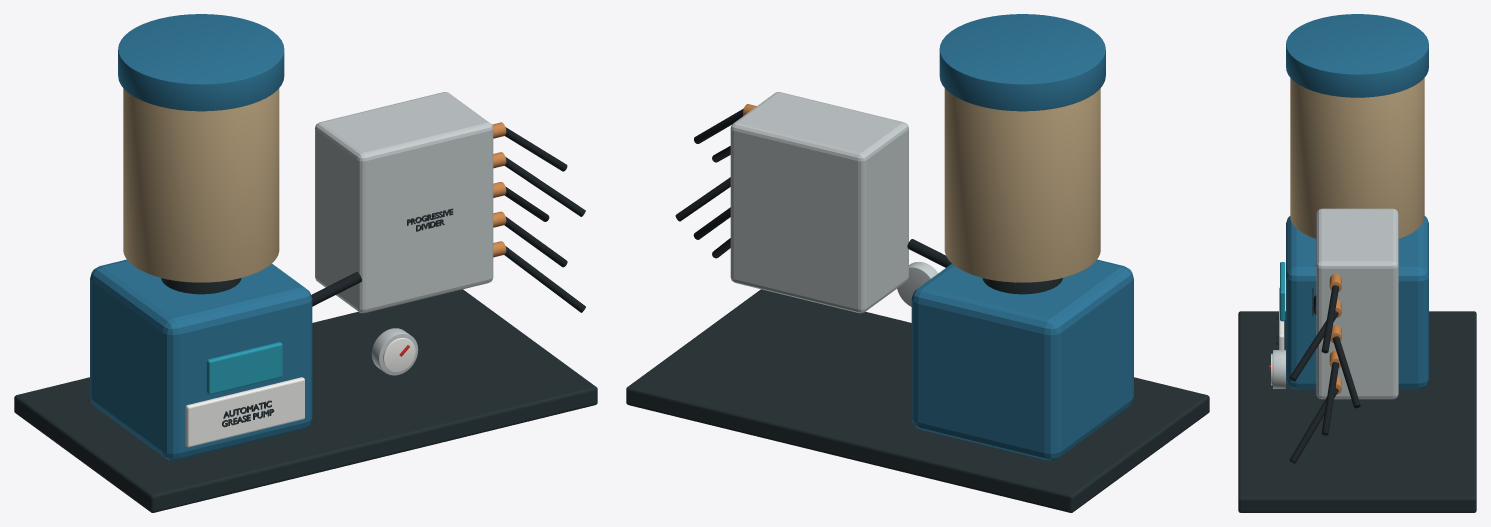
Rendered from central_lubrication_skid.glb.
3 renders of one model, left to right at view 1: azimuth 30°, elevation 25°; view 2: azimuth 150°, elevation 25°; view 3: azimuth 270°, elevation 25°, orthographic. The views are drawn at different scales.
Visible parts, largest first — view 1: BASE, PROGRESSIVE_DIVIDER_BLOCK, AUTOMATIC_PUMP_BASE, TRANSPARENT_GREASE_RESERVOIR, RESERVOIR_LID, PUMP_NAMEPLATE, PUMP_DISPLAY, GAUGE_BODY, GAUGE_FACE, GREASE_HOSE_0, KIN_LUBE_PUMP, GREASE_HOSE_3; view 2: BASE, AUTOMATIC_PUMP_BASE, PROGRESSIVE_DIVIDER_BLOCK, TRANSPARENT_GREASE_RESERVOIR, RESERVOIR_LID, GAUGE_BODY, KIN_LUBE_PUMP; view 3: BASE, TRANSPARENT_GREASE_RESERVOIR, PROGRESSIVE_DIVIDER_BLOCK, RESERVOIR_LID, AUTOMATIC_PUMP_BASE, GREASE_HOSE_2, GREASE_HOSE_1, GREASE_HOSE_0, GREASE_HOSE_4, GAUGE_BODY, GREASE_HOSE_3, PUMP_DISPLAY.
Boxes of the visible parts, bbox=[...] form: BASE: bbox=[14, 289, 597, 512]; PROGRESSIVE_DIVIDER_BLOCK: bbox=[315, 92, 493, 313]; AUTOMATIC_PUMP_BASE: bbox=[90, 259, 312, 460]; TRANSPARENT_GREASE_RESERVOIR: bbox=[123, 88, 279, 282]; RESERVOIR_LID: bbox=[118, 14, 284, 111]; PUMP_NAMEPLATE: bbox=[185, 377, 304, 447]; PUMP_DISPLAY: bbox=[206, 342, 282, 394]; GAUGE_BODY: bbox=[371, 328, 418, 375]; GAUGE_FACE: bbox=[383, 338, 415, 372]; GREASE_HOSE_0: bbox=[504, 246, 585, 312]; KIN_LUBE_PUMP: bbox=[161, 278, 241, 294]; GREASE_HOSE_3: bbox=[504, 157, 585, 216]; BASE: bbox=[626, 289, 1209, 512]; AUTOMATIC_PUMP_BASE: bbox=[911, 259, 1133, 460]; PROGRESSIVE_DIVIDER_BLOCK: bbox=[730, 92, 908, 313]; TRANSPARENT_GREASE_RESERVOIR: bbox=[944, 88, 1100, 282]; RESERVOIR_LID: bbox=[939, 14, 1105, 111]; GAUGE_BODY: bbox=[897, 262, 938, 306]; KIN_LUBE_PUMP: bbox=[982, 278, 1062, 294]; BASE: bbox=[1238, 311, 1476, 512]; TRANSPARENT_GREASE_RESERVOIR: bbox=[1290, 78, 1424, 238]; PROGRESSIVE_DIVIDER_BLOCK: bbox=[1316, 208, 1398, 399]; RESERVOIR_LID: bbox=[1286, 14, 1428, 97]; AUTOMATIC_PUMP_BASE: bbox=[1286, 216, 1428, 389]; GREASE_HOSE_2: bbox=[1332, 336, 1360, 408]; GREASE_HOSE_1: bbox=[1321, 362, 1338, 435]; GREASE_HOSE_0: bbox=[1289, 388, 1338, 463]; GREASE_HOSE_4: bbox=[1321, 285, 1338, 353]; GAUGE_BODY: bbox=[1273, 350, 1285, 388]; GREASE_HOSE_3: bbox=[1289, 311, 1338, 381]; PUMP_DISPLAY: bbox=[1280, 262, 1285, 321].
Size of the model in its own units: 2.14 by 1.69 by 1.1.
